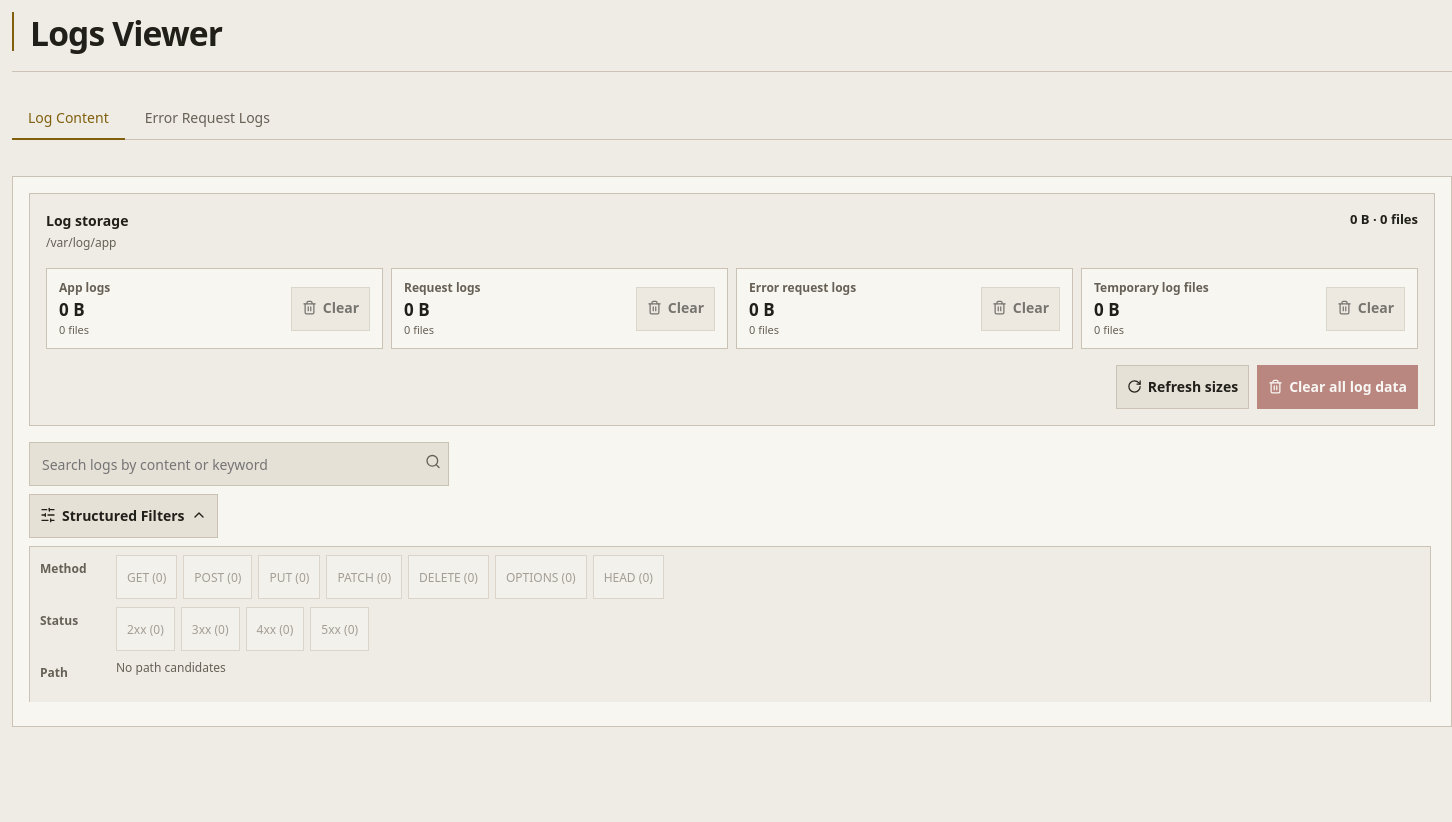
Scenario: LogsPage error logs tab › lists error log files returned by the error logs endpoint
This screenshot has width=1452, height=822.
Click the button "Error Request Logs" at (207, 118), box [129,96,286,140]
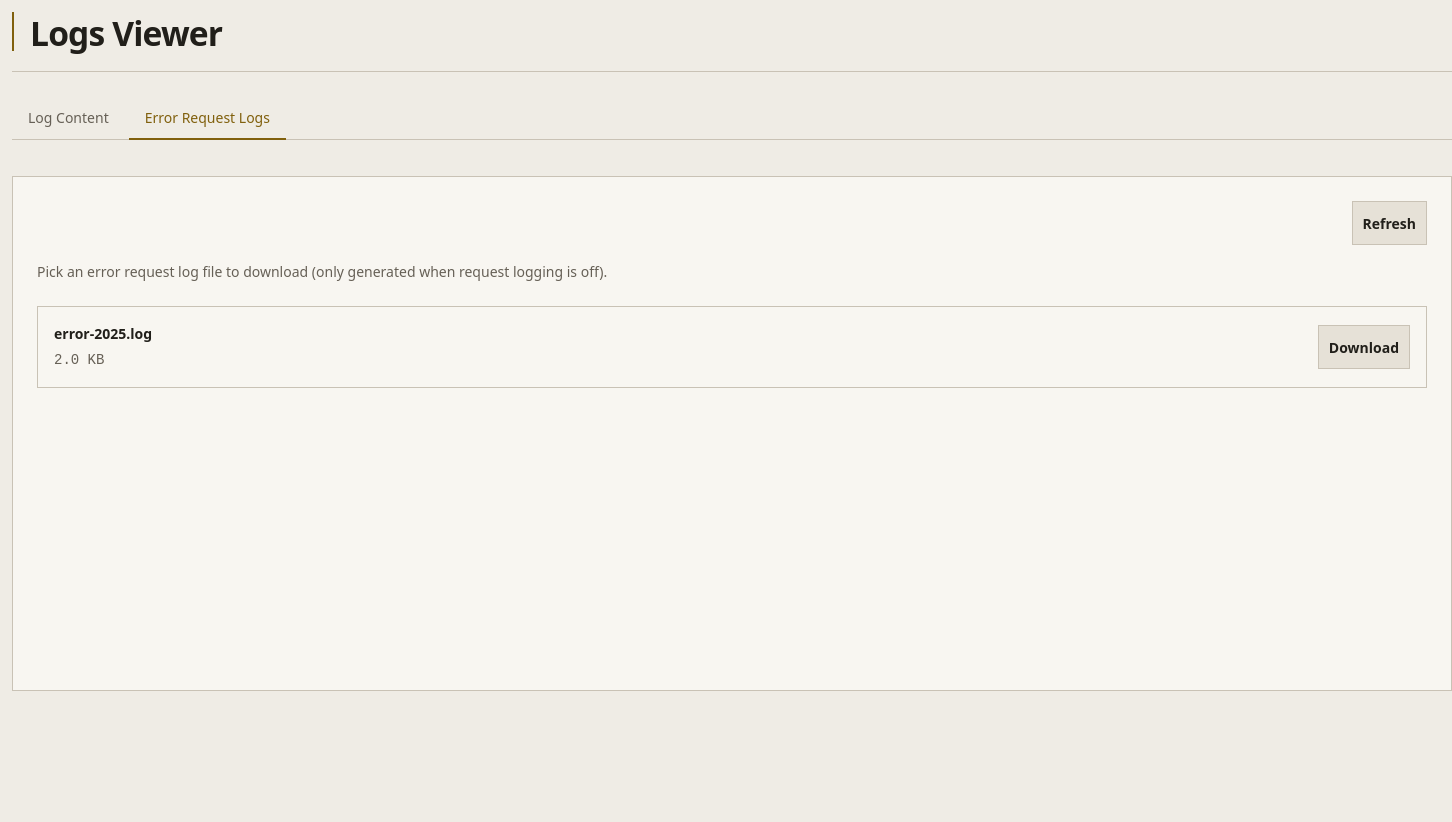
Check: the text "error-2025.log" is shown, box [54,323,152,344]
